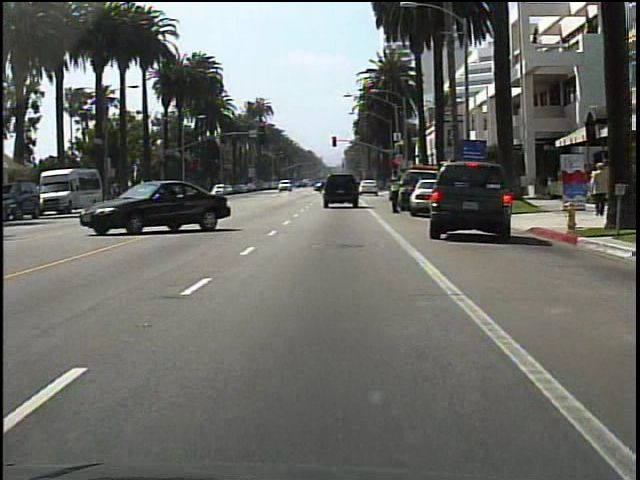person: (587, 160, 608, 220), (386, 171, 404, 219)
